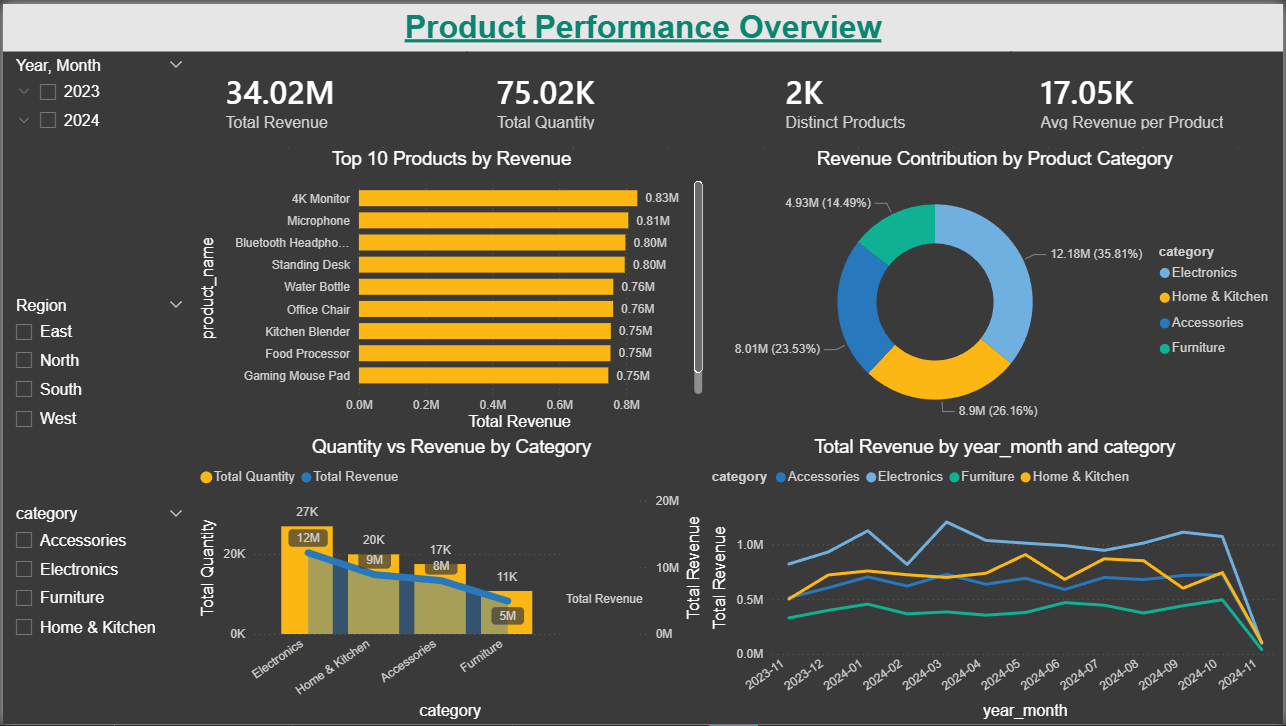

This screenshot's page, from the dashboard's own definition file:
{"tool":"powerbi","page":{"name":"Product performance","canvas":[1280,720],"ordinal":2},"visuals":[{"type":"textbox","box":[0,0,1280,48],"z":0},{"type":"cardVisual","fields":{"Data":["online_shop_2024 fact_sales.Total Revenue"]},"box":[192,48,272,96],"z":1000},{"type":"cardVisual","fields":{"Data":["online_shop_2024 fact_sales.Total Quantity"]},"box":[464,48,288,96],"z":2000},{"type":"cardVisual","fields":{"Data":["online_shop_2024 fact_sales.Distinct Products"]},"box":[752,48,256,96],"z":3000},{"type":"cardVisual","fields":{"Data":["online_shop_2024 fact_sales.Avg Revenue per Product"]},"box":[1008,48,272,96],"z":4000},{"type":"clusteredBarChart","title":"Top 10 Products by Revenue","fields":{"Category":["online_shop_2024 dim_product.product_name"],"Y":["online_shop_2024 fact_sales.Total Revenue"]},"box":[192,144,512,288],"z":5000},{"type":"donutChart","title":"Revenue Contribution by Product Category","fields":{"Category":["online_shop_2024 dim_product.category"],"Y":["online_shop_2024 fact_sales.Total Revenue"]},"box":[704,144,576,288],"z":6000},{"type":"lineClusteredColumnComboChart","title":"Quantity vs Revenue by Category","fields":{"Category":["online_shop_2024 dim_product.category"],"Y":["online_shop_2024 fact_sales.Total Quantity"],"Y2":["online_shop_2024 fact_sales.Total Revenue"]},"box":[192,432,512,288],"z":7000},{"type":"lineChart","fields":{"Y":["online_shop_2024 fact_sales.Total Revenue"],"Series":["online_shop_2024 dim_product.category"],"Category":["online_shop_2024 dim_date.year_month"]},"box":[704,432,576,288],"z":8000},{"type":"slicer","fields":{"Values":["online_shop_2024 dim_product.category"]},"box":[0,496,192,224],"z":9000},{"type":"slicer","fields":{"Values":["online_shop_2024 customer_region.region"]},"box":[0,288,192,208],"z":10000},{"type":"slicer","fields":{"Values":["online_shop_2024 dim_date.year","online_shop_2024 dim_date.month"]},"box":[0,48,192,240],"z":11000}]}

Visuals, with their boxes in screenshot pixels (x1, y1, x2, y2), scaled from the page's 1280x720 canvas onto the 1286x726 screenshot:
textbox: bbox(0, 0, 1285, 48)
cardVisual - online_shop_2024 fact_sales.Total Revenue: bbox(193, 48, 466, 145)
cardVisual - online_shop_2024 fact_sales.Total Quantity: bbox(466, 48, 756, 145)
cardVisual - online_shop_2024 fact_sales.Distinct Products: bbox(756, 48, 1013, 145)
cardVisual - online_shop_2024 fact_sales.Avg Revenue per Product: bbox(1013, 48, 1285, 145)
"Top 10 Products by Revenue" clusteredBarChart: bbox(193, 145, 707, 436)
"Revenue Contribution by Product Category" donutChart: bbox(707, 145, 1285, 436)
"Quantity vs Revenue by Category" lineClusteredColumnComboChart: bbox(193, 436, 707, 725)
lineChart - online_shop_2024 fact_sales.Total Revenue x online_shop_2024 dim_product.category: bbox(707, 436, 1285, 725)
slicer - online_shop_2024 dim_product.category: bbox(0, 500, 193, 725)
slicer - online_shop_2024 customer_region.region: bbox(0, 290, 193, 500)
slicer - online_shop_2024 dim_date.year x online_shop_2024 dim_date.month: bbox(0, 48, 193, 290)
